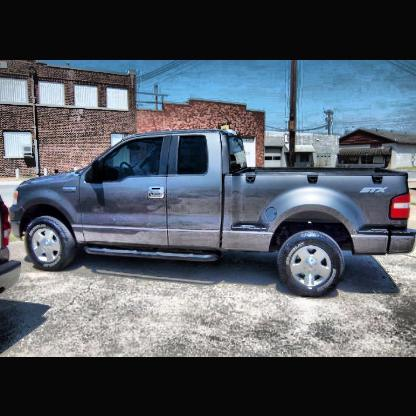Ford F-150 Regular Cab 2007: (12, 129, 416, 297)
